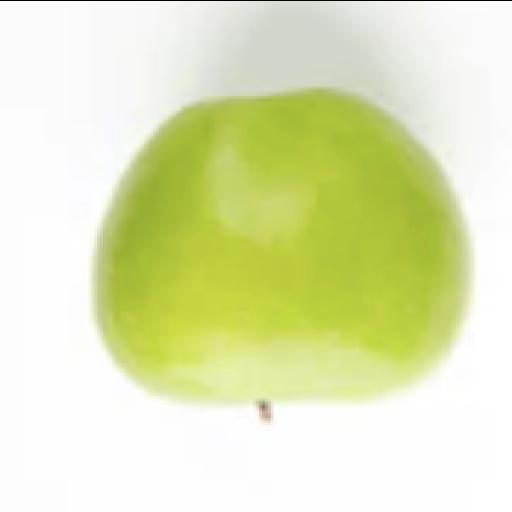apple: (100, 88, 469, 402)
